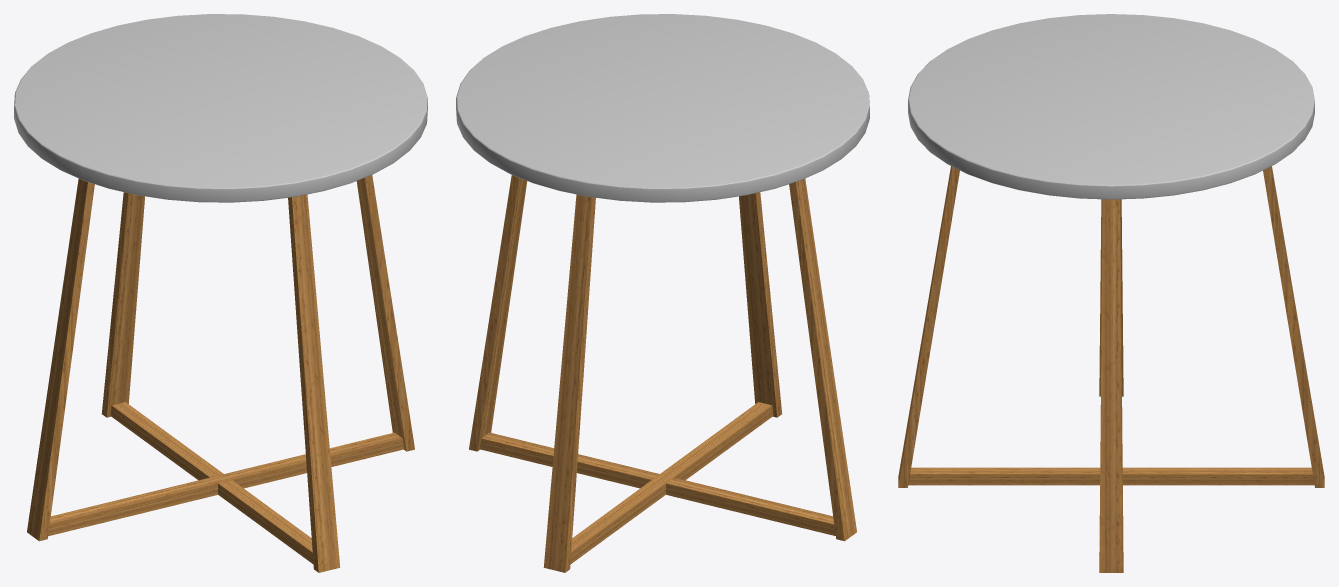
The model's file is Coffee table 1.FBX.
3 renders of one model, left to right at view 1: azimuth 30°, elevation 25°; view 2: azimuth 150°, elevation 25°; view 3: azimuth 270°, elevation 25°, orthographic.
Visible parts, largest first — view 1: coffee table 1; view 2: coffee table 1; view 3: coffee table 1.
Part boxes in pixels (x1,y1,x2,y2): coffee table 1: [14, 14, 427, 572]; coffee table 1: [456, 14, 869, 572]; coffee table 1: [898, 14, 1324, 572].
Size of the model in its own units: 52.37 by 51.93 by 52.37.
